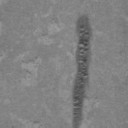oxide scale of plate system: (71, 14, 94, 128)
